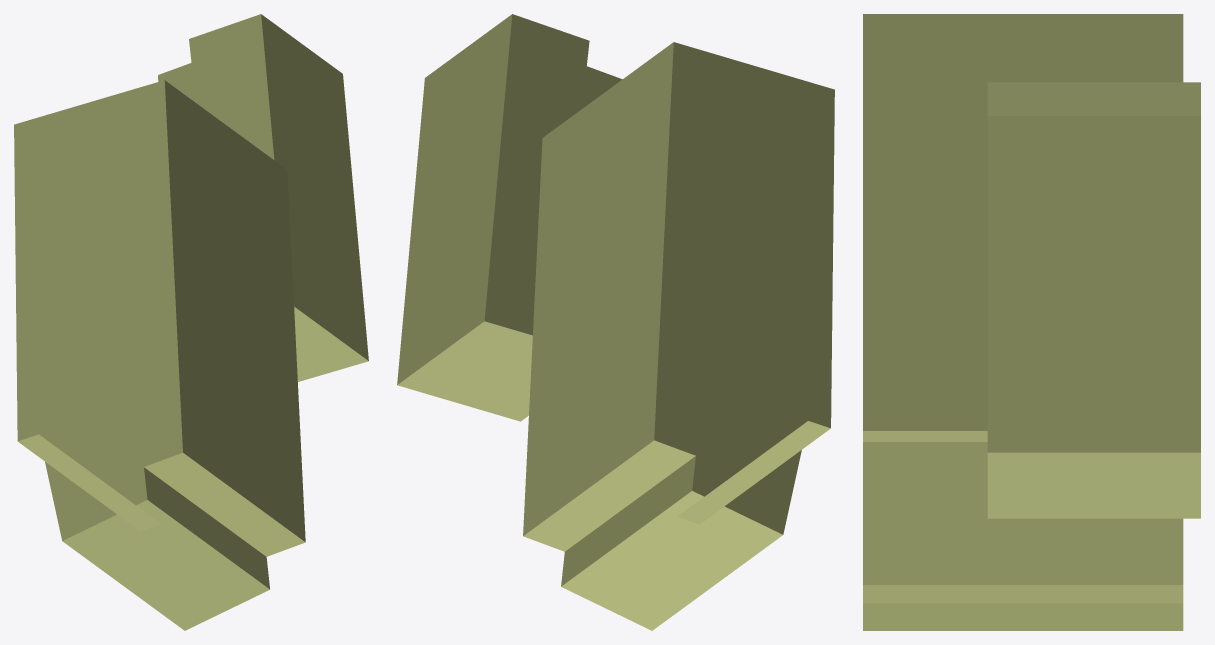
The picture shows the model from 3 angles, left to right: view 1: azimuth 30°, elevation 25°; view 2: azimuth 150°, elevation 25°; view 3: azimuth 270°, elevation 25°; orthographic projection. The views are drawn at different scales.
Visible parts, largest first — view 1: 0_1_0_0_1_0_0_2_2_1; view 2: 0_1_0_0_1_0_0_2_2_1; view 3: 0_1_0_0_1_0_0_2_2_1.
Part boxes in pixels (left/top/right/bottom): 0_1_0_0_1_0_0_2_2_1: left=14, top=14, right=368, bottom=630; 0_1_0_0_1_0_0_2_2_1: left=397, top=14, right=834, bottom=630; 0_1_0_0_1_0_0_2_2_1: left=863, top=14, right=1200, bottom=630.
Size of the model in its own units: 11.86 by 19.1 by 9.5.
